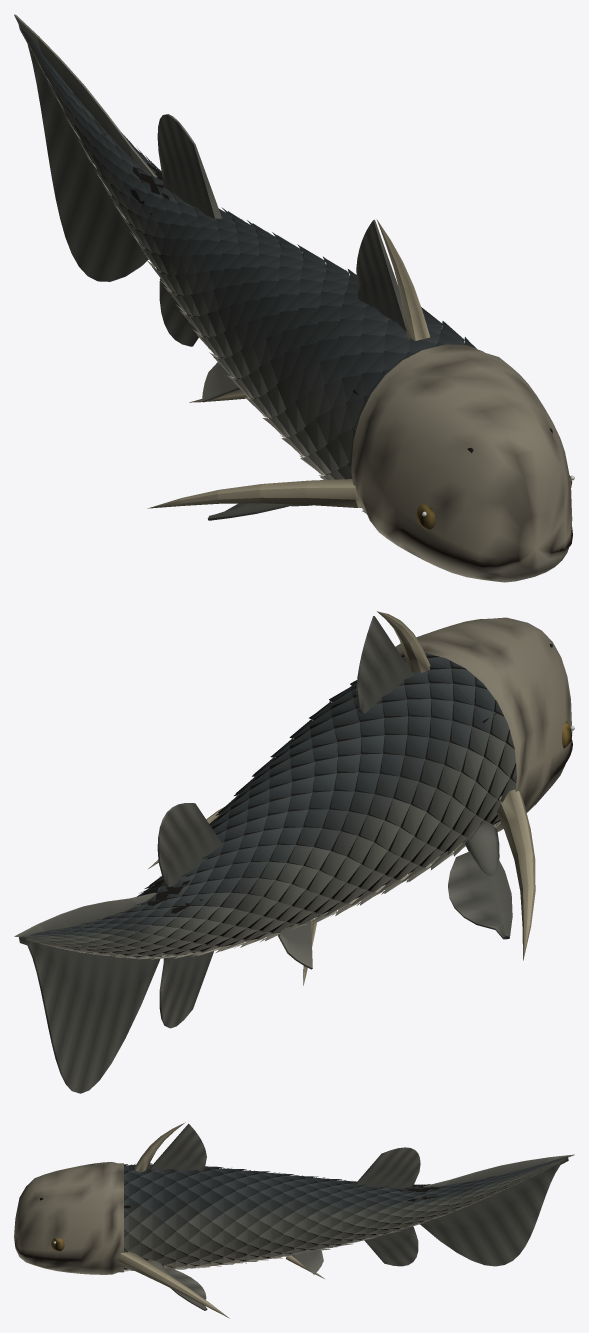
The model's file is Psarolepis.fbx.
3 renders of one model, top to bottom at view 1: azimuth 30°, elevation 25°; view 2: azimuth 150°, elevation 25°; view 3: azimuth 270°, elevation 25°, orthographic. The views are drawn at different scales.
Parts seen in each view (by area): view 1: Psarolepis; view 2: Psarolepis; view 3: Psarolepis.
Part boxes in pixels (x1=…): Psarolepis: x1=14, y1=14, x2=574, y2=582; Psarolepis: x1=14, y1=611, x2=574, y2=1093; Psarolepis: x1=14, y1=1122, x2=574, y2=1318.
Size of the model in its own units: 0.6576 by 0.4663 by 1.58.
